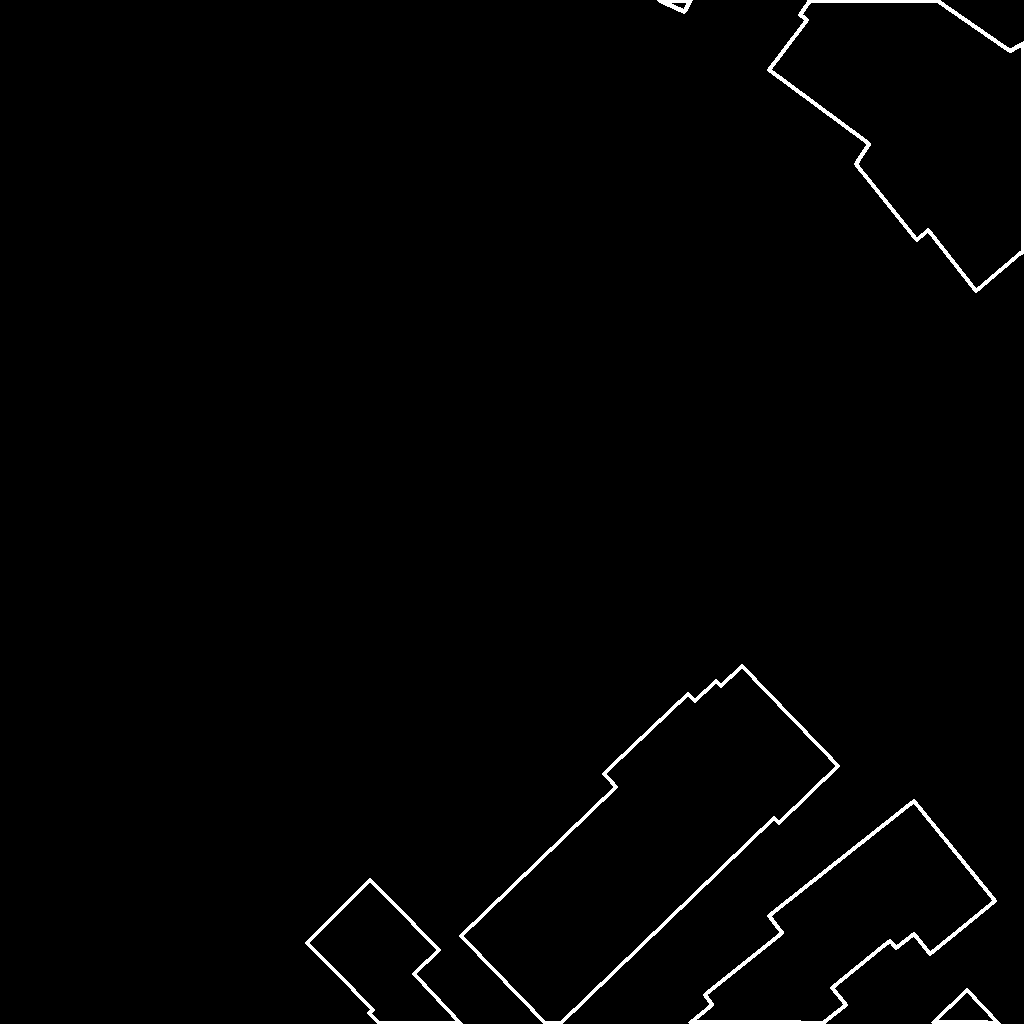building: (461, 666, 839, 1024), (769, 0, 1024, 292), (690, 801, 996, 1024), (307, 880, 462, 1024), (933, 990, 1000, 1024), (658, 0, 692, 13)
